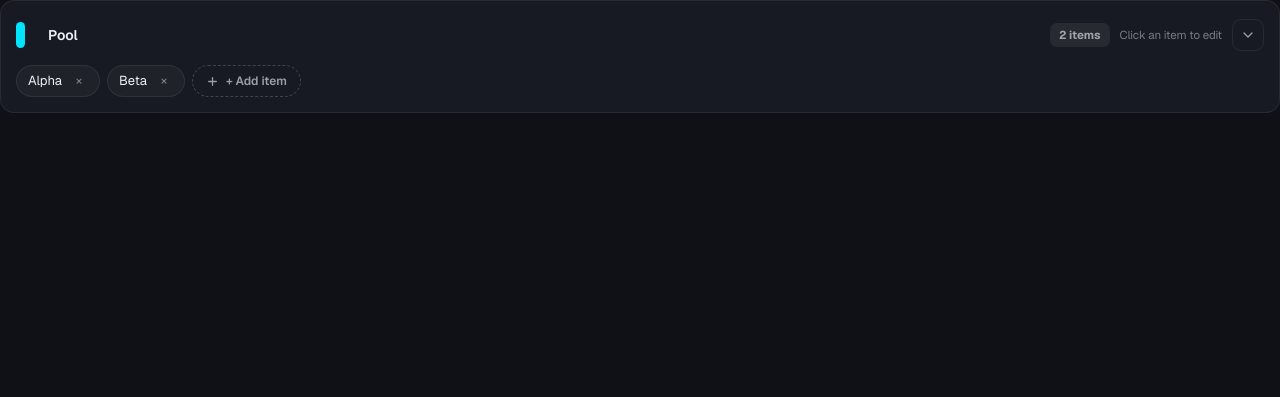
Scenario: GroupEditor editing an added item › loads the clicked item into the input and renames the action to Save
Click the button with aria-label "Edit Alpha". click: click(45, 81)
box: [28,71,62,91]
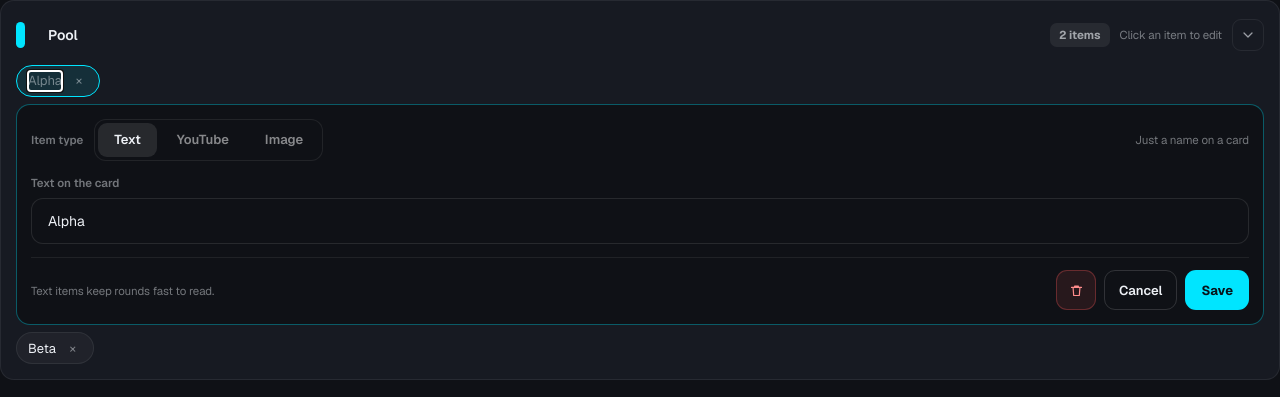
Result: the field named "Pool 1 new item" holds "Alpha" at [31,198,1249,244]
Result: the button "Save" is shown at [1185,270,1249,310]
Result: the button "Add" is gone
